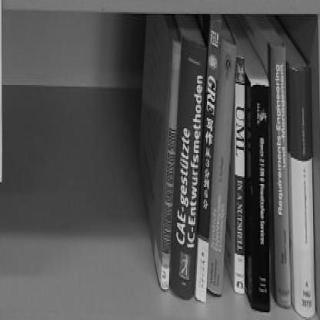book-spine: (168, 36, 208, 298), (205, 38, 237, 295), (194, 16, 222, 304), (290, 65, 316, 317), (271, 44, 291, 308), (161, 40, 181, 290), (251, 85, 270, 314), (235, 56, 245, 296)
